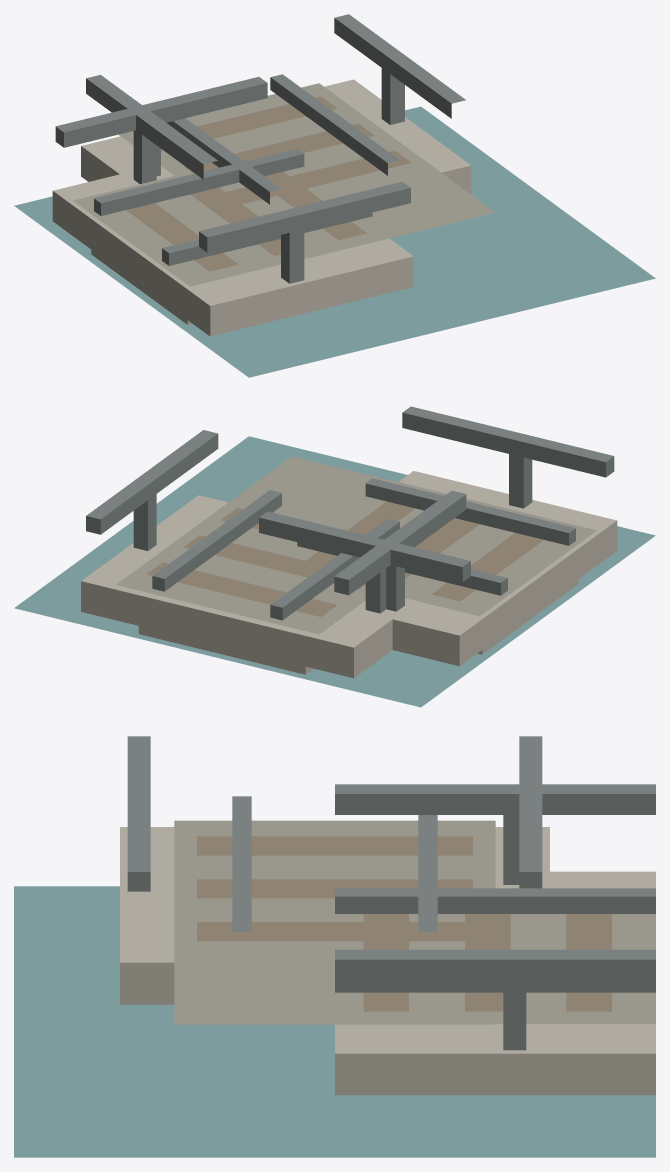
3 renders of one model, top to bottom at view 1: azimuth 30°, elevation 25°; view 2: azimuth 150°, elevation 25°; view 3: azimuth 270°, elevation 25°, orthographic. The views are drawn at different scales.
Parts seen in each view (by area): view 1: Near; view 2: Near; view 3: Near.
Part boxes in pixels (<box>): Near: <box>14,14,655,377</box>; Near: <box>14,406,655,707</box>; Near: <box>14,736,655,1157</box>.
Bounding box in the file's own units: 1 × 0.258 × 1.
